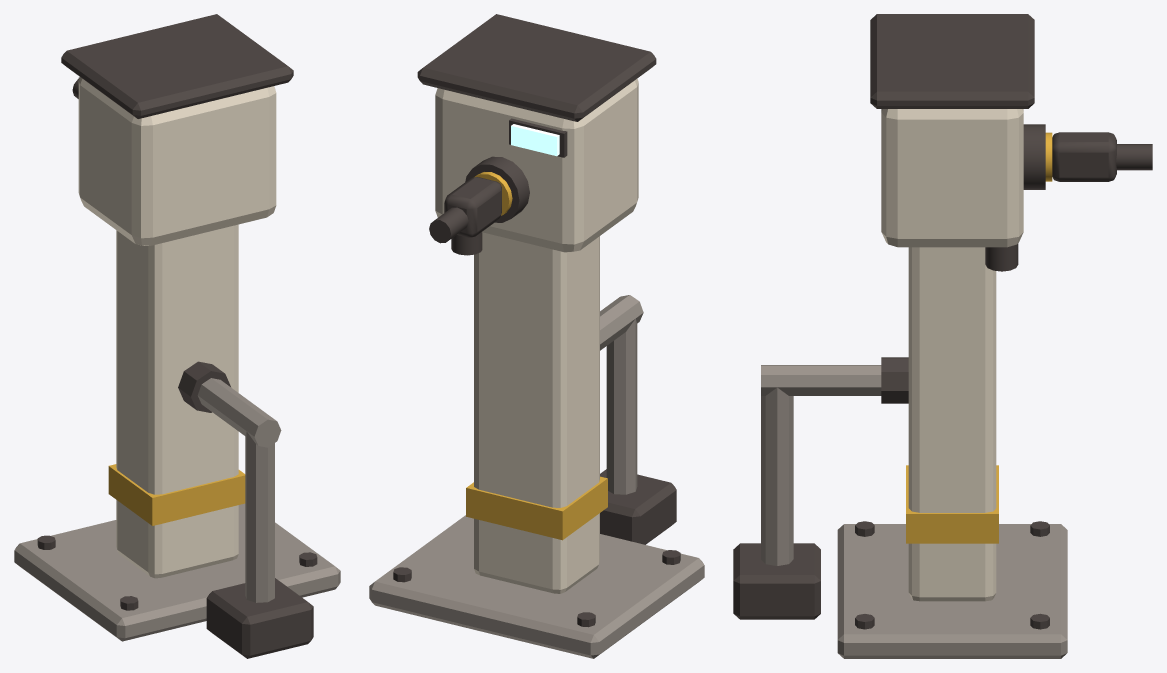
Rendered from prop_charger.glb.
3 renders of one model, left to right at view 1: azimuth 30°, elevation 25°; view 2: azimuth 150°, elevation 25°; view 3: azimuth 270°, elevation 25°, orthographic. The views are drawn at different scales.
Visible parts, largest first — view 1: charger-col, detail-col, port_1_box-col; view 2: charger-col, detail-col, port_1_box-col, plug, charge_light; view 3: charger-col, detail-col, port_1_box-col, plug.
Part boxes in pixels (left/top/right/bottom): charger-col: left=14, top=14, right=340, bottom=641; detail-col: left=178, top=361, right=281, bottom=602; port_1_box-col: left=206, top=578, right=313, bottom=658; charger-col: left=369, top=14, right=704, bottom=658; detail-col: left=600, top=295, right=643, bottom=494; port_1_box-col: left=600, top=469, right=676, bottom=544; plug: left=429, top=172, right=512, bottom=243; charge_light: left=511, top=124, right=559, bottom=156; charger-col: left=837, top=14, right=1067, bottom=658; detail-col: left=761, top=357, right=908, bottom=565; port_1_box-col: left=733, top=543, right=820, bottom=619; plug: left=1045, top=132, right=1152, bottom=181.
Bounding box in the file's own units: 0.5 × 1.11 × 0.765.
